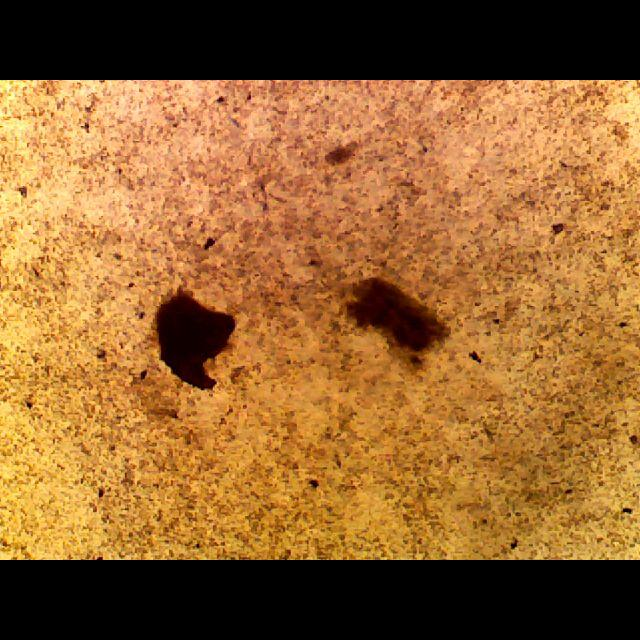Fragment: (333, 274, 453, 372), (147, 284, 239, 394)
